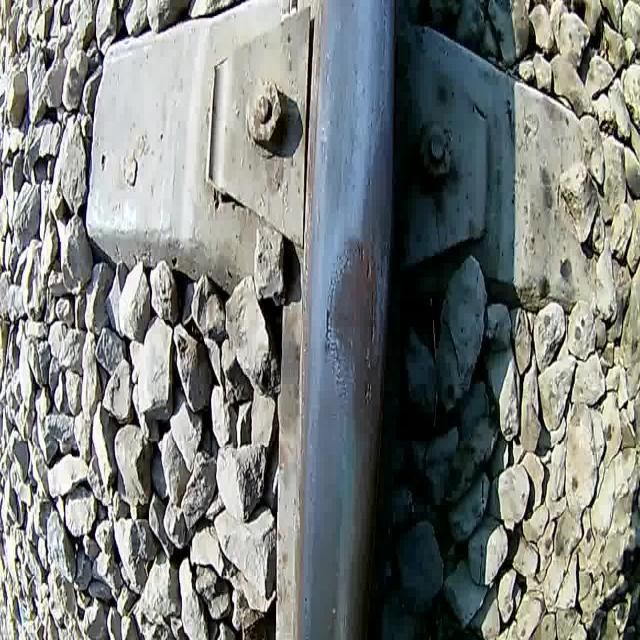Squats: (319, 226, 384, 448)
